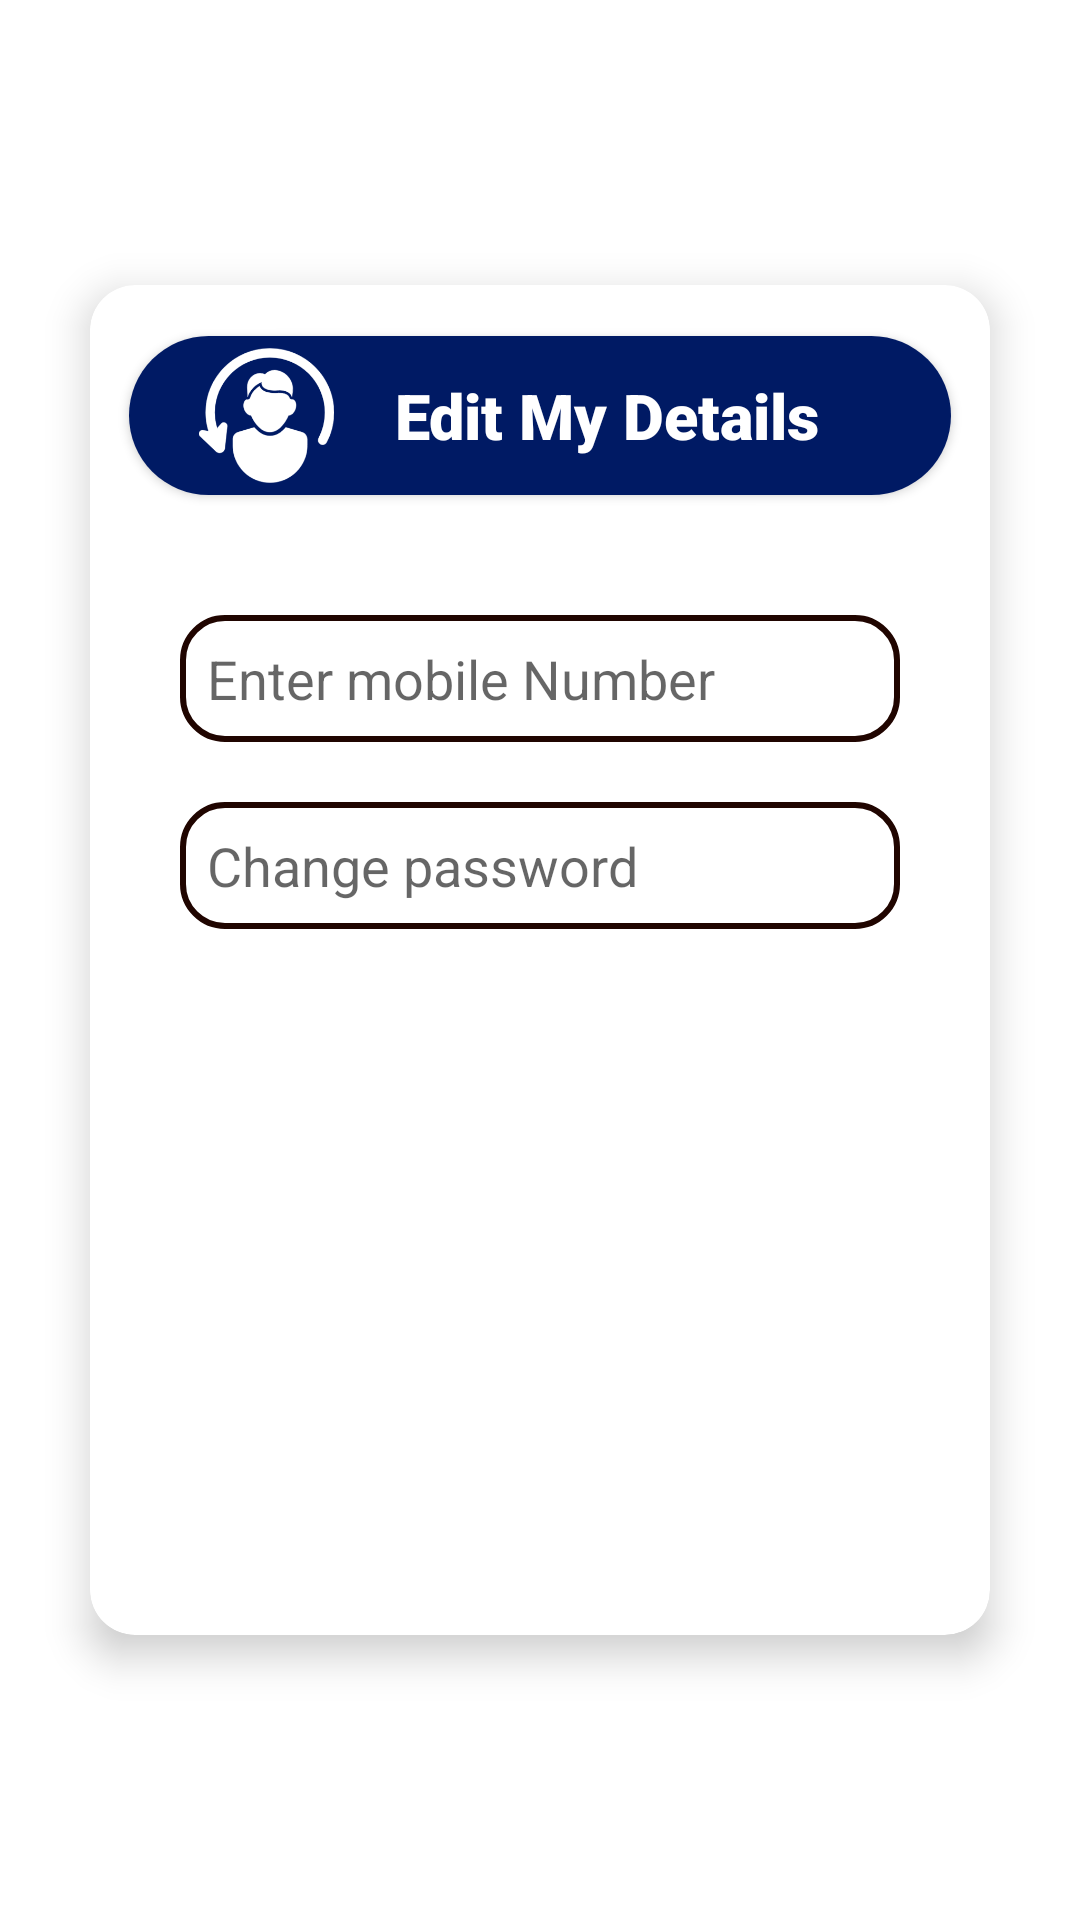

Icons on this 1080x1920 Android screen, each with its box as box=[x1, y1, x2, y2]:
updatestaff: box=[199, 348, 334, 483]
